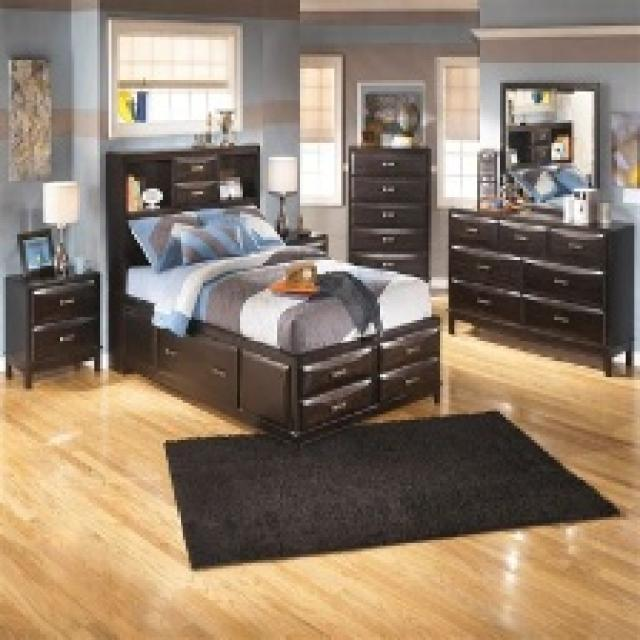Bed: (103, 143, 440, 446)
